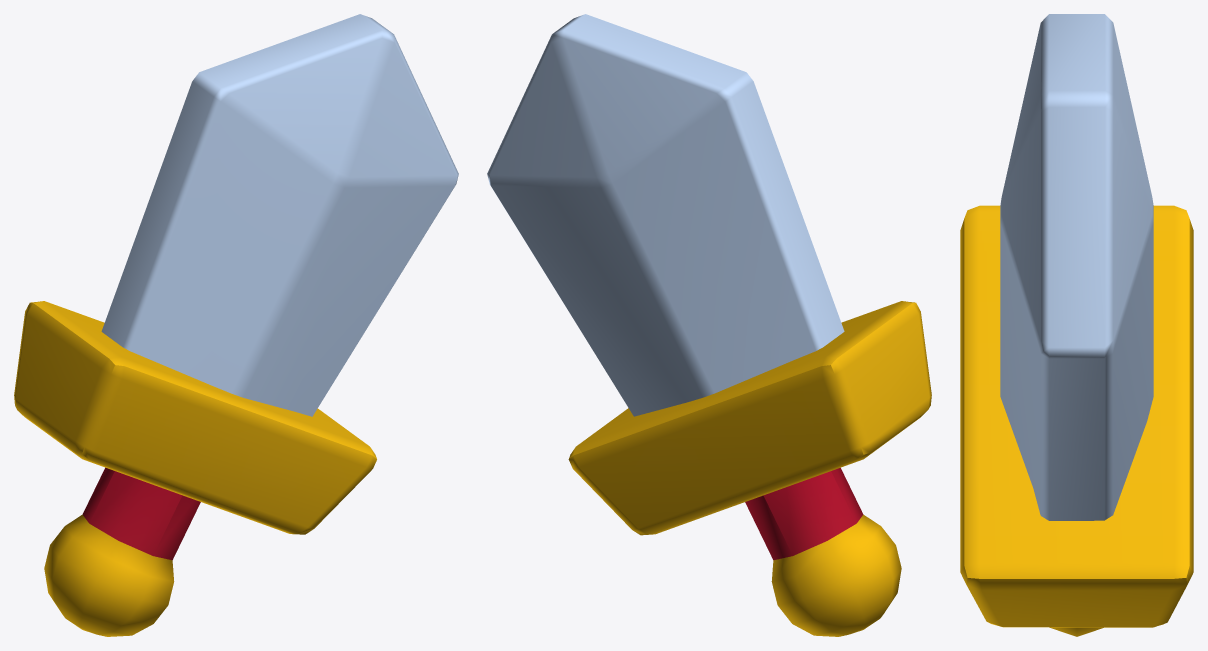
3 views of the same model, side by side, from view 1: azimuth 30°, elevation 25°; view 2: azimuth 150°, elevation 25°; view 3: azimuth 270°, elevation 25° (orthographic). The views are drawn at different scales.
Parts seen in each view (by area): view 1: model_0.015; view 2: model_0.015; view 3: model_0.015.
Boxes of the visible parts, bbox=[...] form: model_0.015: bbox=[14, 14, 458, 636]; model_0.015: bbox=[487, 14, 931, 636]; model_0.015: bbox=[960, 14, 1193, 636].
Size of the model in its own units: 2.94 by 3.81 by 1.15.
